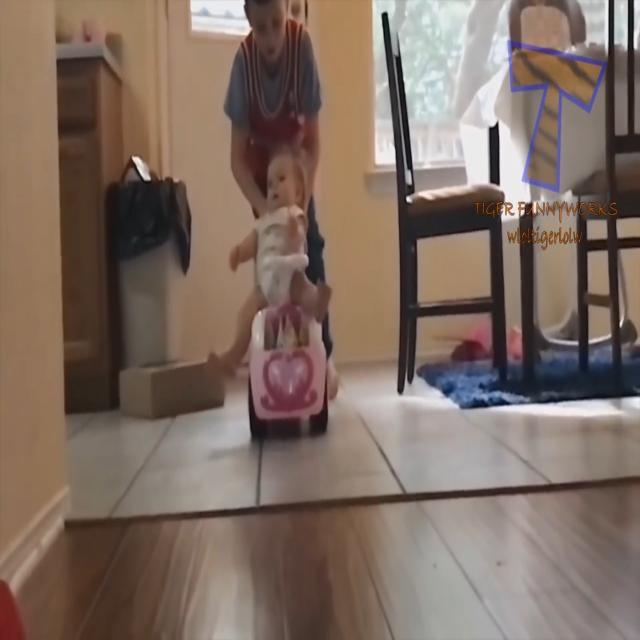dangerous: (222, 144, 329, 388)
